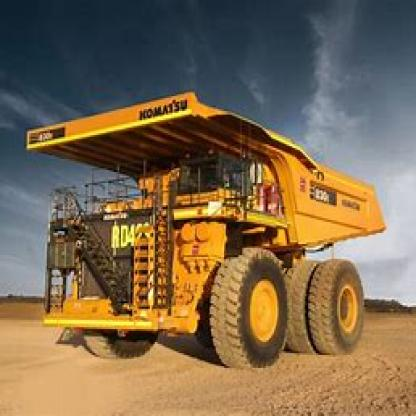dump_truck: (16, 94, 398, 368)
